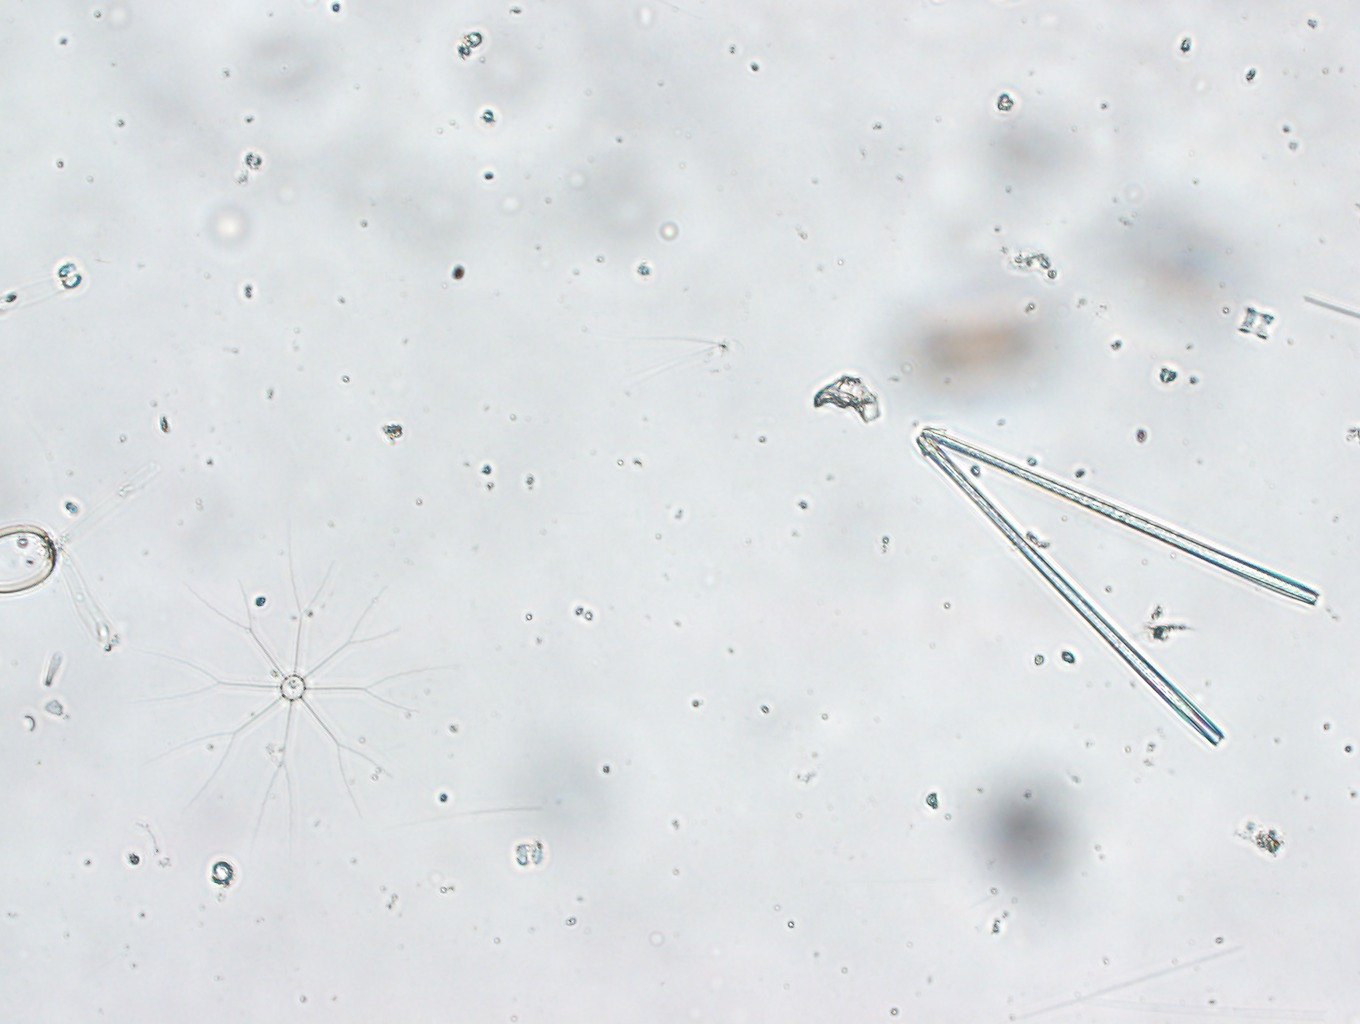bacteriastrum: (168, 551, 460, 837)
thalassionema frauenfeldii: (899, 417, 1325, 753)
